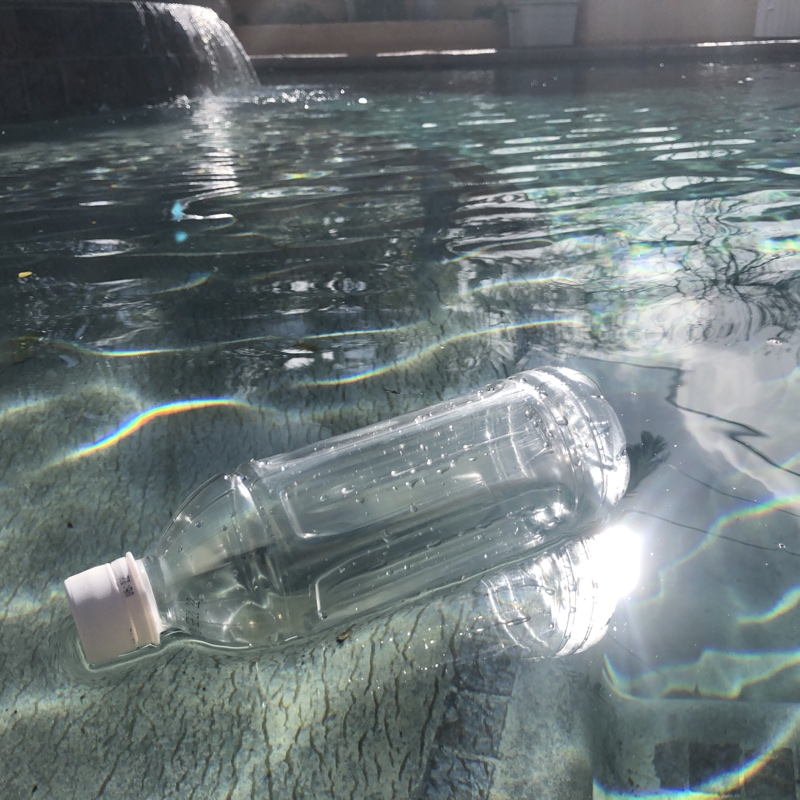Plastic Bottle: (56, 357, 635, 684)
